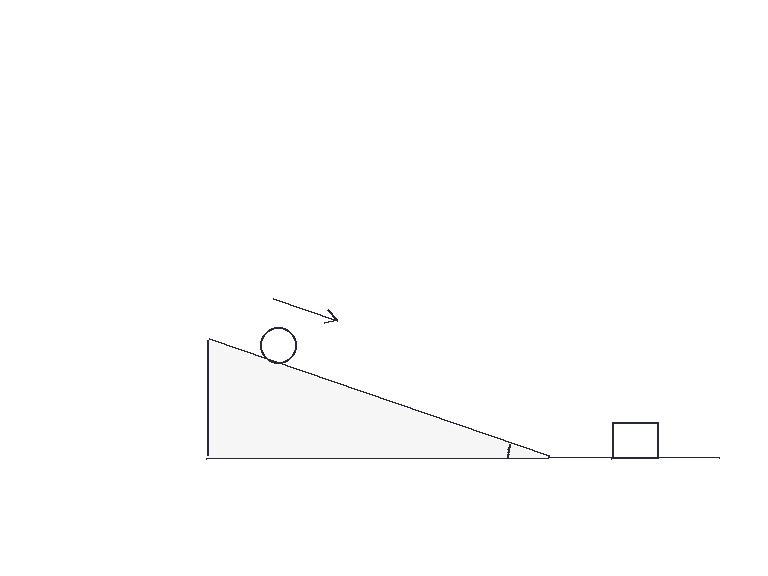ball: (258, 325, 298, 365)
block: (610, 421, 660, 459)
ramp: (206, 338, 550, 459)
